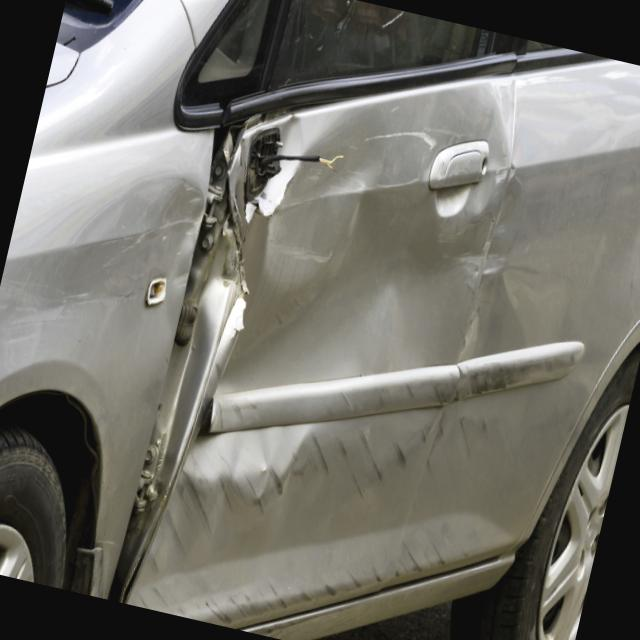Cabossage: (173, 35, 528, 563), (31, 141, 218, 350)
Dechirure: (96, 115, 277, 613)
Rayure: (161, 327, 499, 596), (131, 458, 469, 640), (350, 100, 440, 175)
